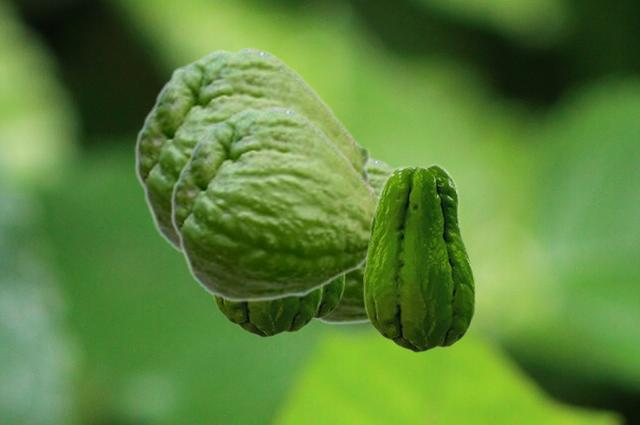sayote: (134, 46, 375, 255), (170, 105, 377, 302), (313, 156, 465, 324), (363, 163, 475, 352), (210, 288, 322, 337), (314, 276, 344, 320)
